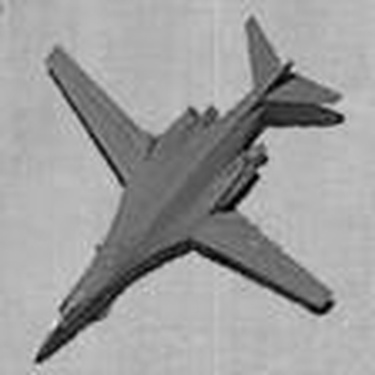airplane: (27, 5, 348, 370)
